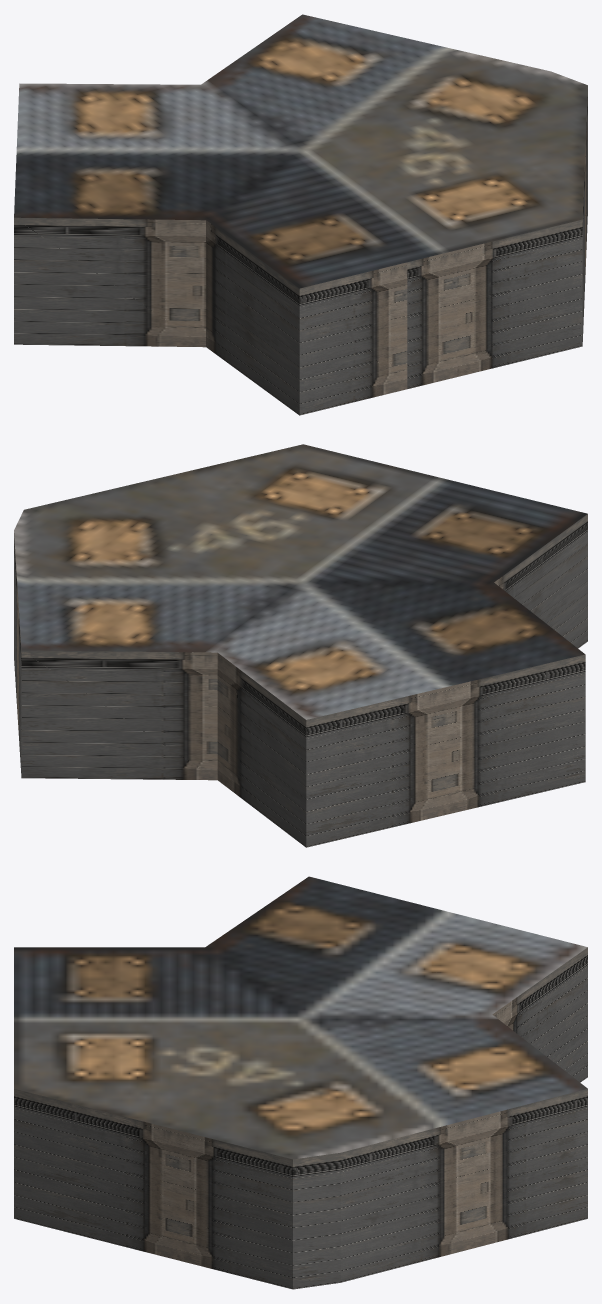
The model's file is hangar_light_a_46.glb.
3 views of the same model, one above another, from view 1: azimuth 30°, elevation 25°; view 2: azimuth 150°, elevation 25°; view 3: azimuth 270°, elevation 25° (orthographic). The views are drawn at different scales.
Visible parts, largest first — view 1: buildings/saxarba/hangar_light/hangar_light_a_46; view 2: buildings/saxarba/hangar_light/hangar_light_a_46; view 3: buildings/saxarba/hangar_light/hangar_light_a_46.
Boxes of the visible parts, x1,y1,x2,y2 form: buildings/saxarba/hangar_light/hangar_light_a_46: (14, 14, 587, 415); buildings/saxarba/hangar_light/hangar_light_a_46: (14, 444, 587, 847); buildings/saxarba/hangar_light/hangar_light_a_46: (14, 876, 587, 1289).
Size of the model in its own units: 84 by 18 by 72.
